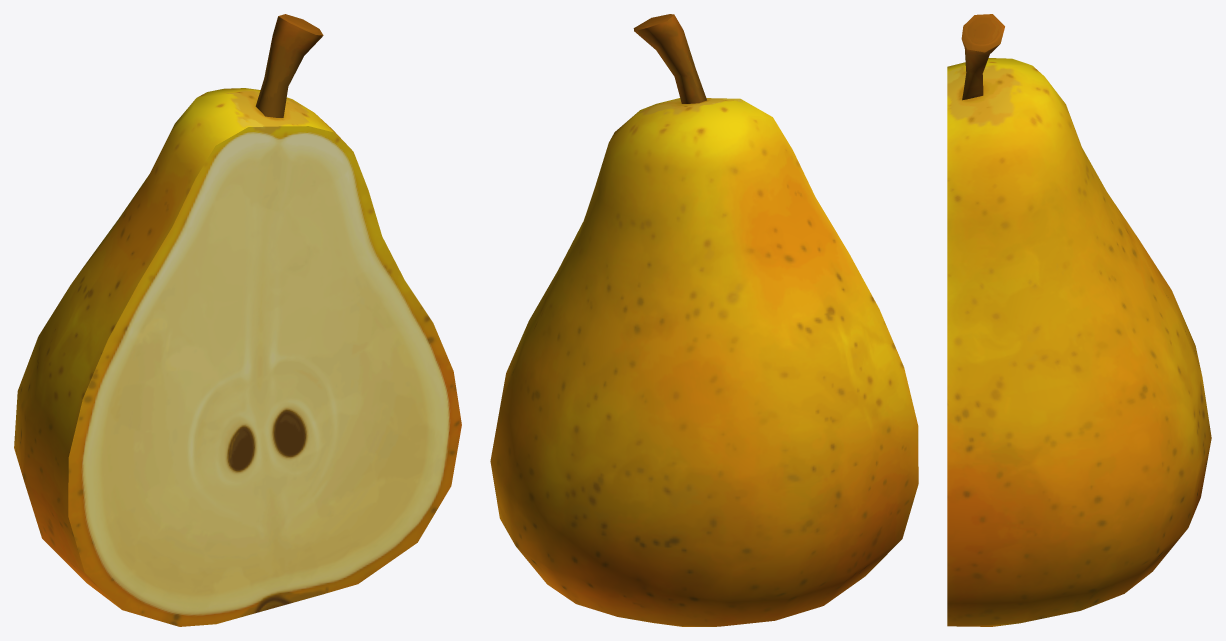
File: SM_PearYellowCut.fbx
3 renders of one model, left to right at view 1: azimuth 30°, elevation 25°; view 2: azimuth 150°, elevation 25°; view 3: azimuth 270°, elevation 25°, orthographic. The views are drawn at different scales.
Visible parts, largest first — view 1: SM_PearYellowCut; view 2: SM_PearYellowCut; view 3: SM_PearYellowCut.
Boxes of the visible parts, bbox=[...] form: SM_PearYellowCut: bbox=[14, 14, 461, 626]; SM_PearYellowCut: bbox=[490, 14, 918, 626]; SM_PearYellowCut: bbox=[947, 14, 1211, 626].
Size of the model in its own units: 13.36 by 18.68 by 7.57.
